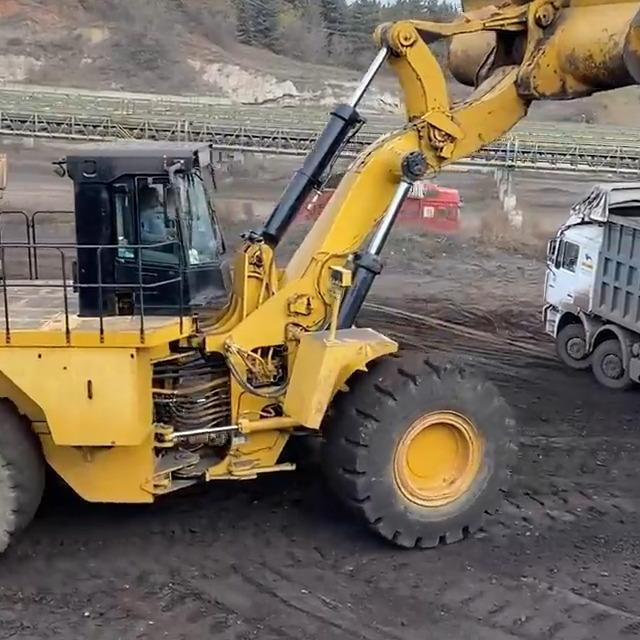NO-Hardhat: (144, 186, 159, 196)
NO-Safety Vest: (142, 209, 169, 244)
Person: (139, 185, 177, 246)
dump truck: (546, 179, 640, 473), (304, 172, 463, 231)
wheel loader: (0, 0, 640, 579)
